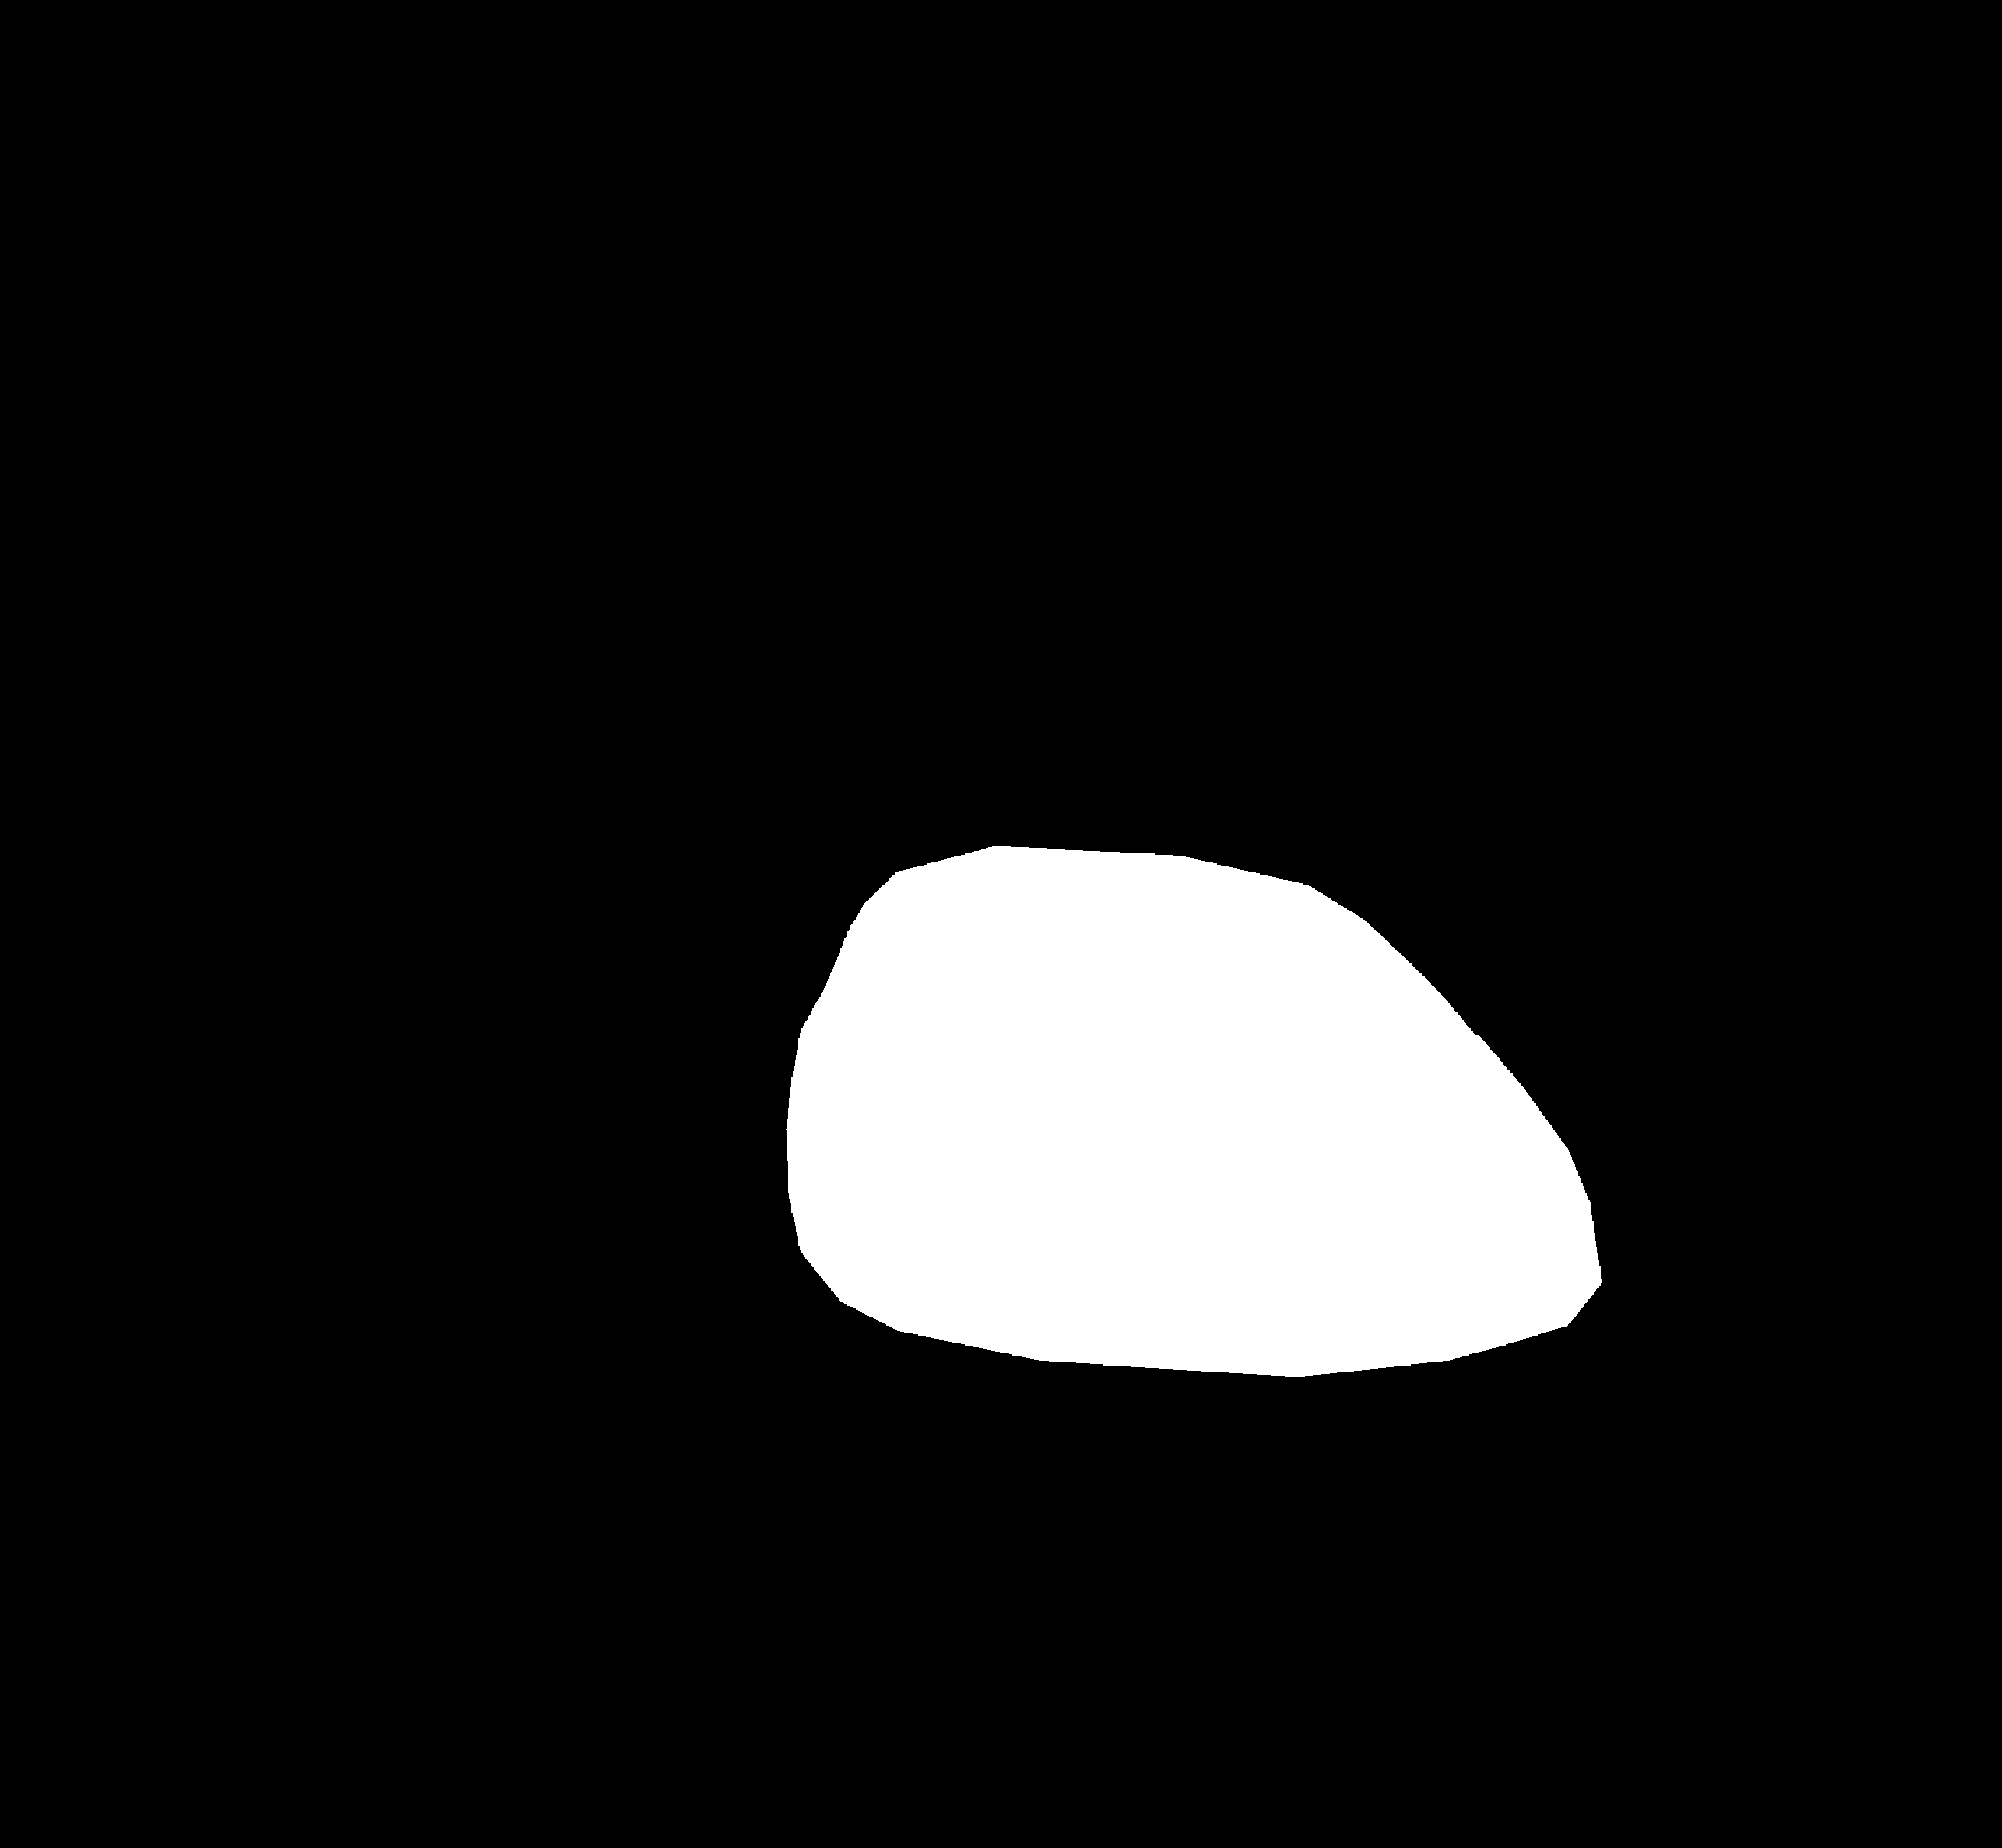heart: (786, 898, 1603, 1431)
left_lung: (276, 206, 921, 1536)
right_lung: (1086, 227, 1751, 1419)
